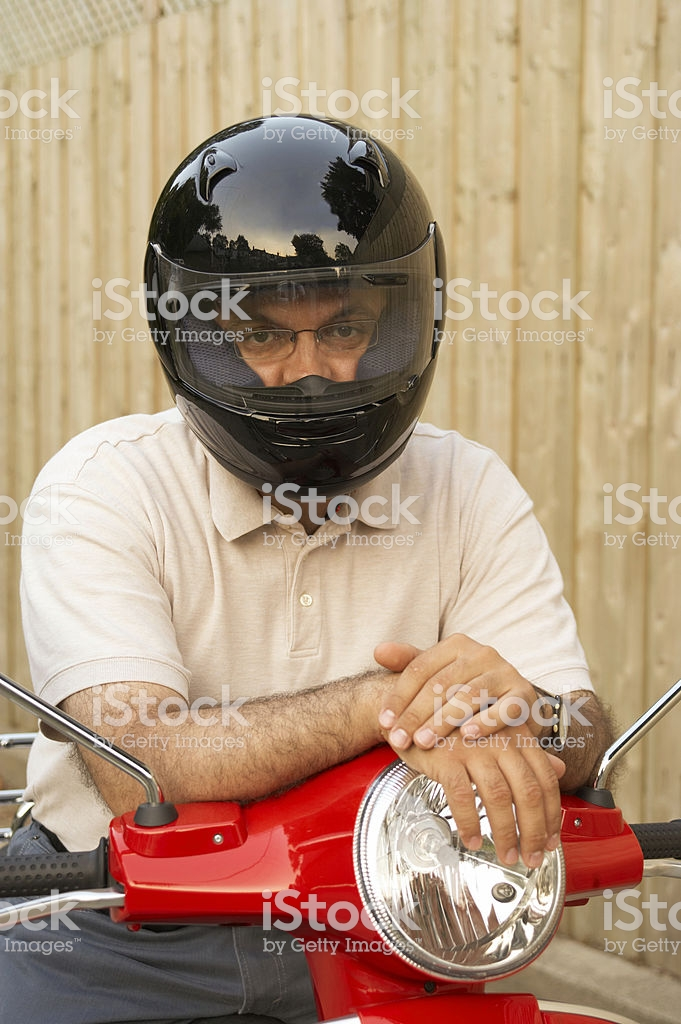helmet: (132, 131, 457, 454)
